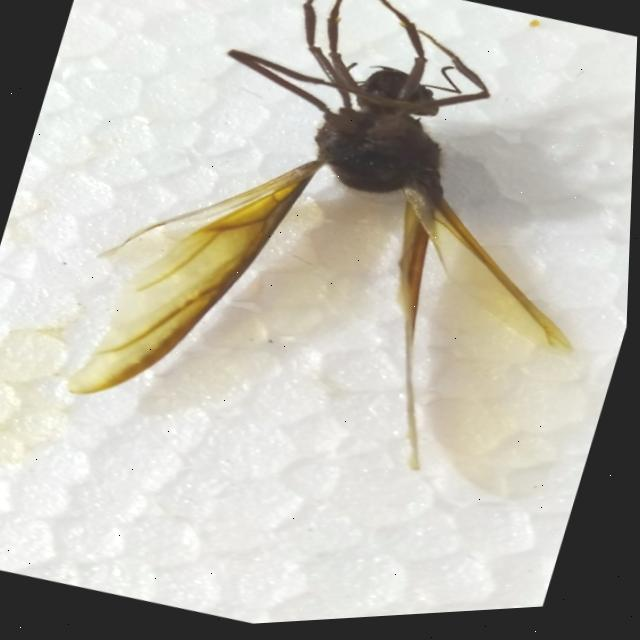Dead-Female-Alate: (55, 0, 640, 525)
